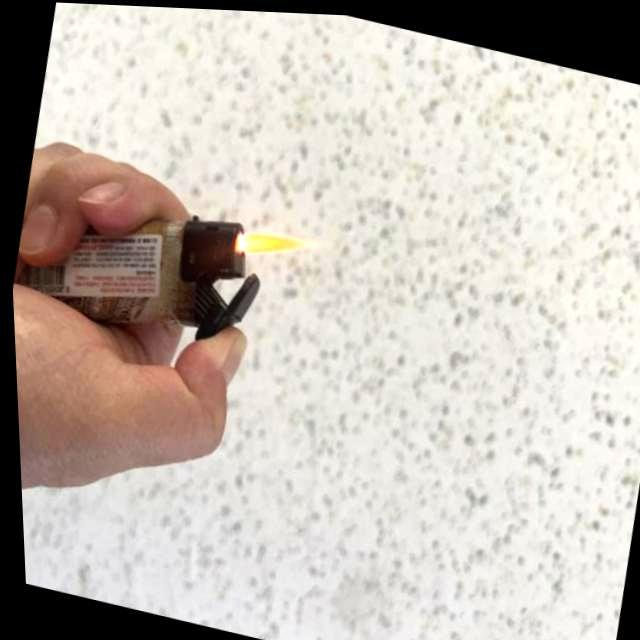fire: (235, 220, 309, 268)
